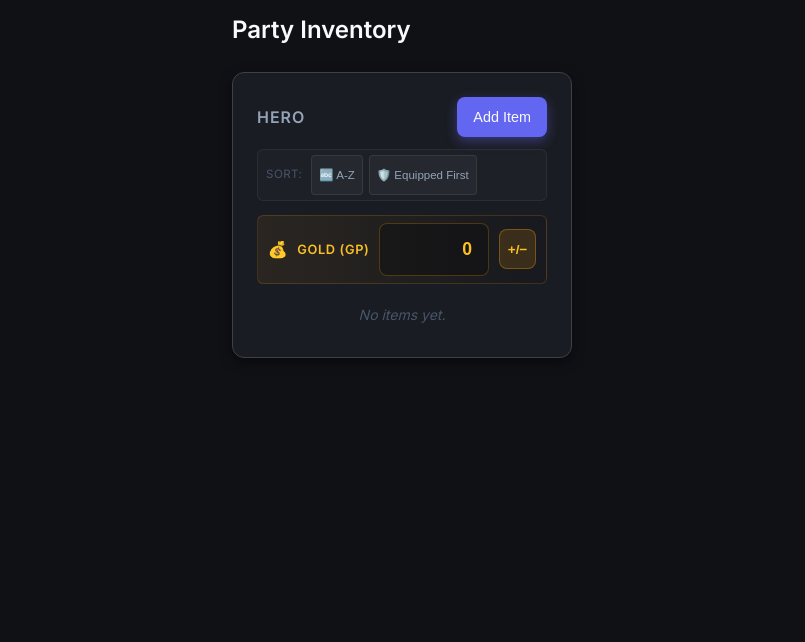
Test: Equipment Component › combobox search filters items
The width and height of the screenshot is (805, 642).
// Click Add Item
Click the button "Add Item": (502, 117) [457,97,547,137]
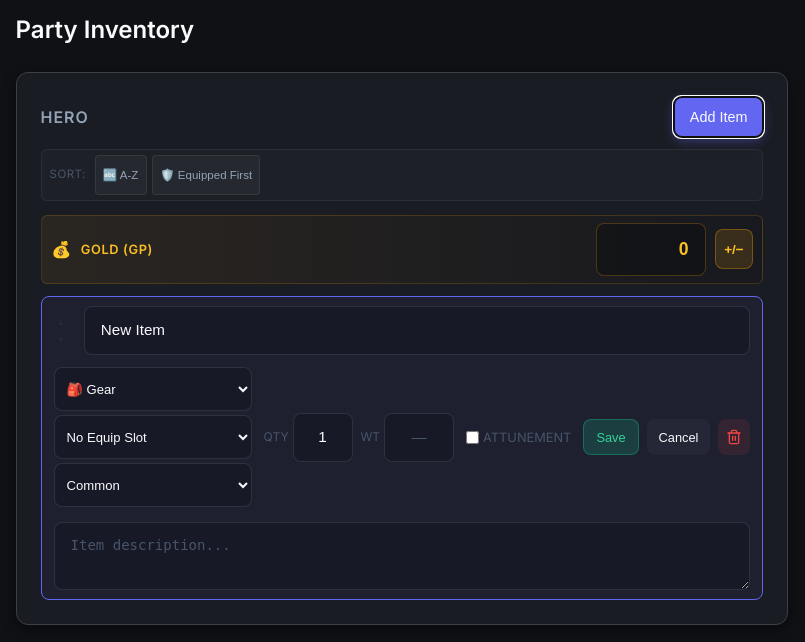
// Clear default "New Item" text and type
Replace the text in the field with placeholder "Item Name" with "Long": (417, 331) [84,306,750,355]
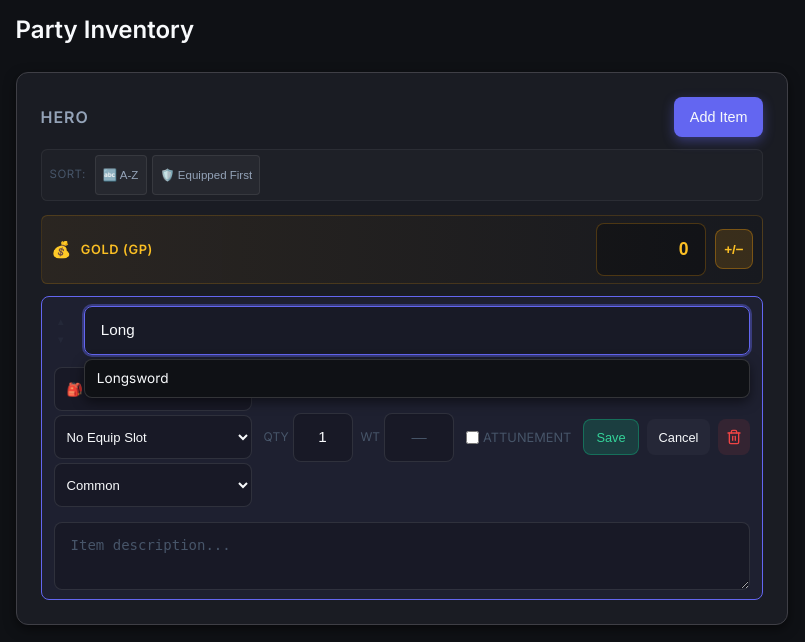
Now the list item "Longsword" is shown, box [97,370,168,386]
Now the list item "Healing Potion" is gone
